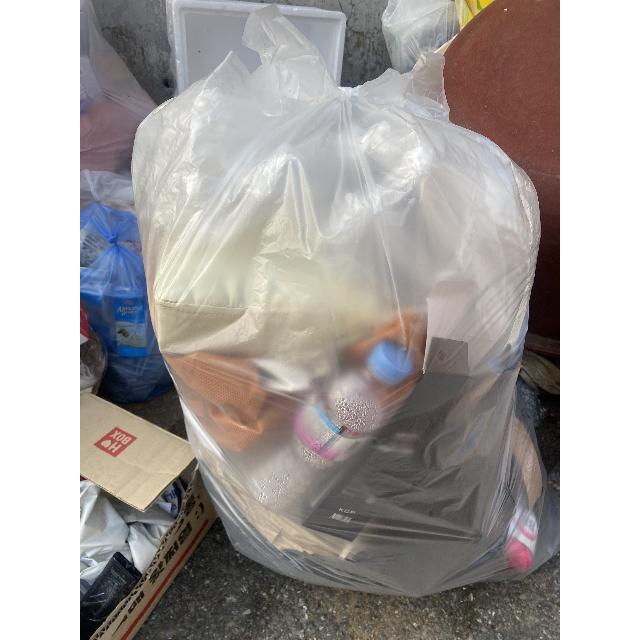other_trashbag: (143, 57, 556, 600), (158, 0, 364, 95), (80, 0, 166, 211), (80, 205, 172, 392)
